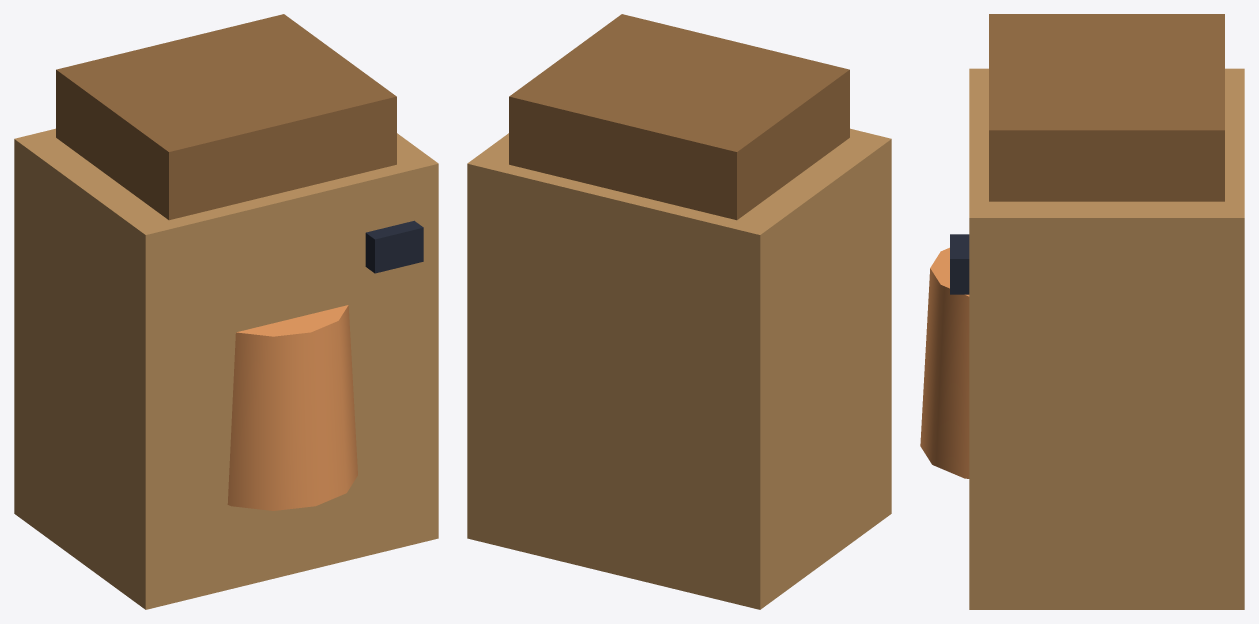
The model's file is coffee_machine.glb.
3 views of the same model, side by side, from view 1: azimuth 30°, elevation 25°; view 2: azimuth 150°, elevation 25°; view 3: azimuth 270°, elevation 25° (orthographic). The views are drawn at different scales.
Parts seen in each view (by area): view 1: coffee_machine; view 2: coffee_machine; view 3: coffee_machine.
Part boxes in pixels (x1,y1,x2,y2): coffee_machine: (14,14,438,609); coffee_machine: (467,14,891,609); coffee_machine: (920,14,1244,609).
Bounding box in the file's own units: 18 × 26 × 16.5.
